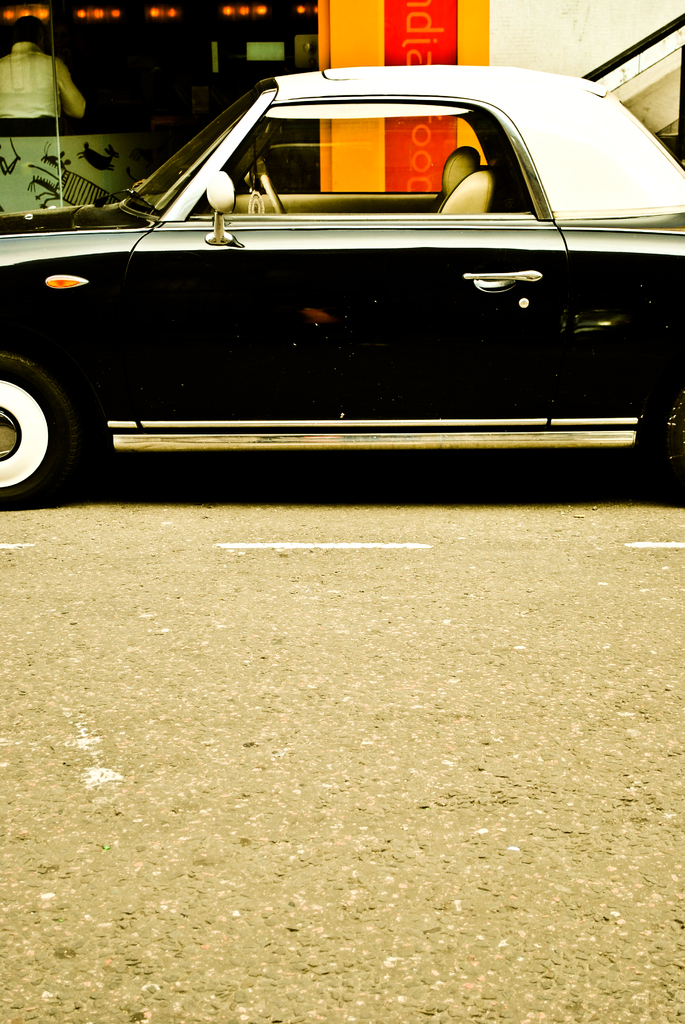Car: (0, 63, 684, 511)
